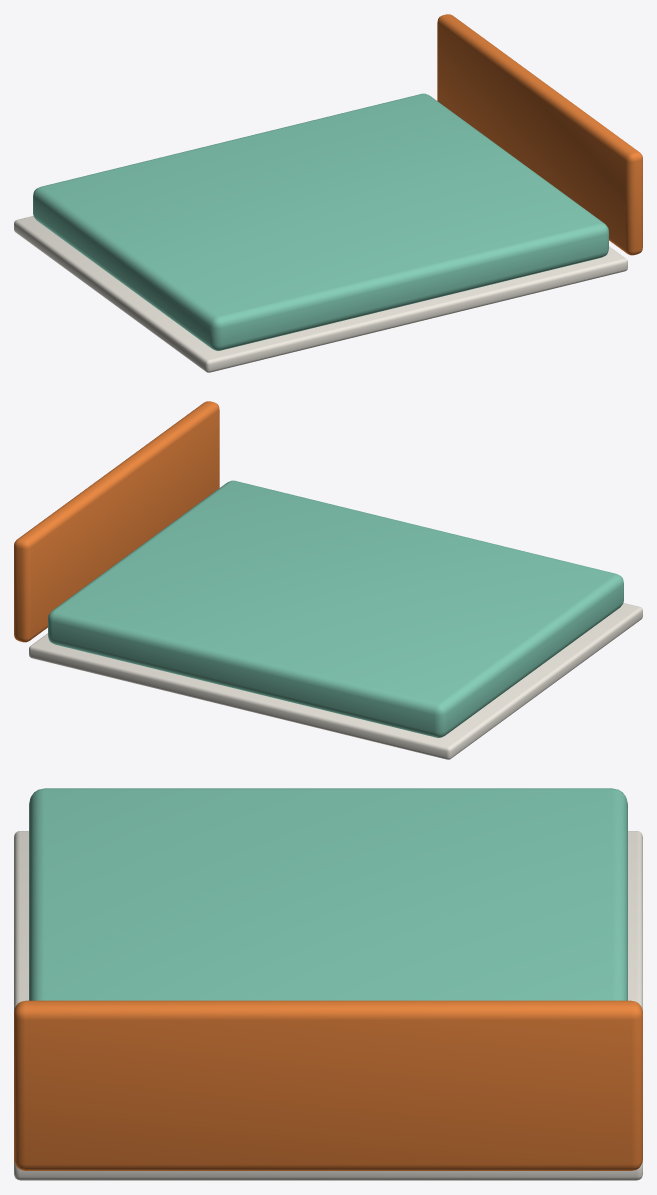
Rendered from cutter_door.glb.
The picture shows the model from 3 angles, top to bottom: view 1: azimuth 30°, elevation 25°; view 2: azimuth 150°, elevation 25°; view 3: azimuth 270°, elevation 25°; orthographic projection. The views are drawn at different scales.
Visible parts, largest first — view 1: foam_pad, soft_lip, door; view 2: foam_pad, soft_lip, door; view 3: foam_pad, soft_lip, door.
Part boxes in pixels (x1,y1,x2,y2): foam_pad: [33, 93, 608, 350]; soft_lip: [437, 14, 642, 255]; door: [14, 216, 627, 372]; foam_pad: [48, 480, 623, 737]; soft_lip: [14, 401, 219, 642]; door: [29, 603, 642, 759]; foam_pad: [29, 788, 627, 1000]; soft_lip: [14, 1000, 642, 1170]; door: [14, 831, 642, 1180].
Bounding box in the file's own units: 0.108 × 0.027 × 0.083.
